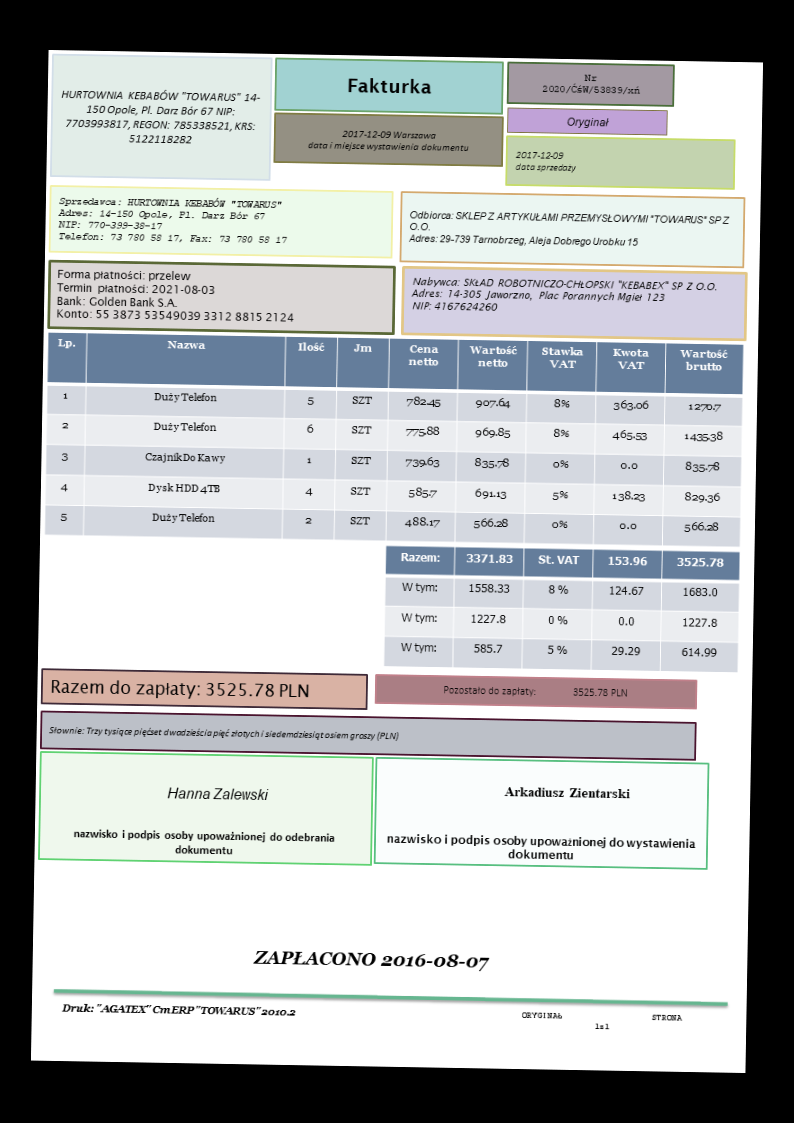Table: (43, 330, 746, 549), (382, 543, 741, 671)
TextBox: (404, 204, 733, 255), (407, 270, 721, 321), (52, 266, 297, 324), (53, 191, 291, 249), (58, 84, 263, 151), (383, 826, 700, 864), (69, 823, 340, 861), (44, 720, 402, 745), (44, 670, 312, 703), (250, 943, 494, 976), (58, 999, 302, 1023), (302, 123, 472, 155), (518, 1007, 684, 1036), (438, 679, 633, 702), (502, 782, 634, 806), (540, 68, 645, 98), (162, 778, 271, 806), (341, 72, 434, 97), (512, 146, 579, 178), (564, 112, 613, 130)
